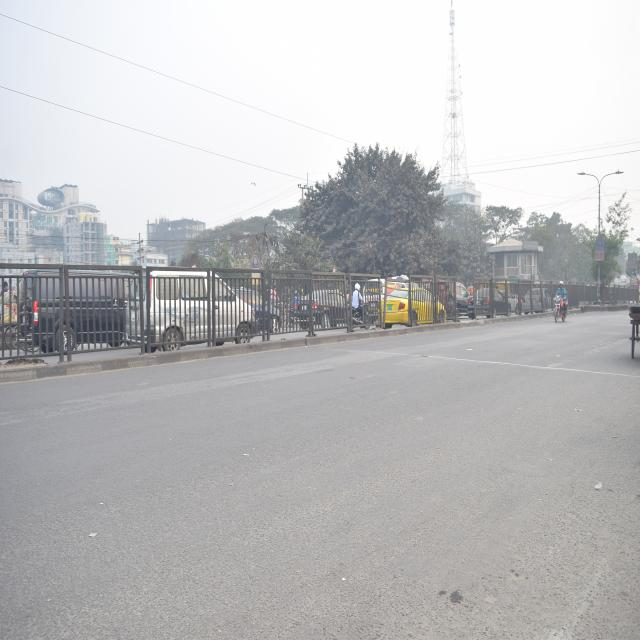car: (383, 273, 447, 335), (306, 280, 344, 324)
microbus: (19, 250, 134, 340), (143, 262, 251, 347)
motorbike: (541, 285, 574, 328)
